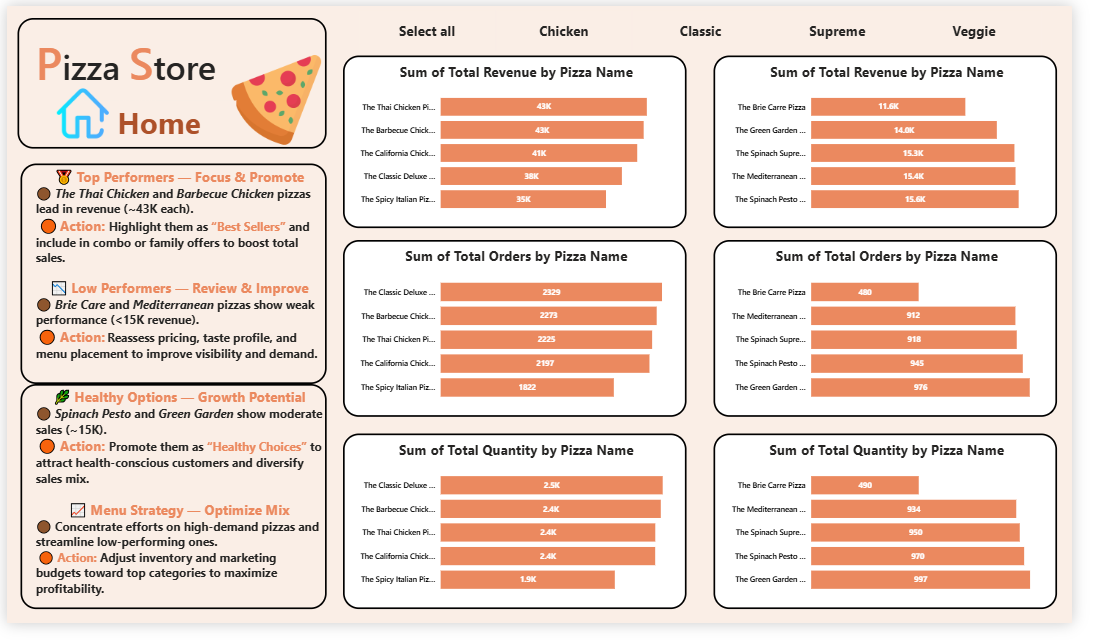

Layout of this report page (visuals, bound fields, positions):
{"tool":"powerbi","page":{"name":"Best/Worst Seller","canvas":[1690,980],"ordinal":1},"visuals":[{"type":"clusteredBarChart","fields":{"Category":["Pizzas_byRevenue.Pizza Name"],"Y":["Sum(Pizzas_byRevenue.Total Revenue)"]},"box":[533.3,78.6,545.2,273.8],"z":0},{"type":"clusteredBarChart","fields":{"Category":["Pizzas_byRevenue.Pizza Name"],"Y":["Sum(Pizzas_byRevenue.Total Revenue)"]},"box":[1121.4,78.6,545.2,273.8],"z":1000},{"type":"barChart","fields":{"Category":["Pizzas_TotalOrders.Pizza Name"],"Y":["Sum(Pizzas_TotalOrders.Total Orders)"]},"box":[533.3,371.4,545.2,281],"z":2000},{"type":"barChart","fields":{"Category":["Pizzas_TotalOrders.Pizza Name"],"Y":["Sum(Pizzas_TotalOrders.Total Orders)"]},"box":[1121.4,371.4,545.2,281],"z":3000},{"type":"clusteredBarChart","fields":{"Category":["Pizzas_byQuantity.Pizza Name"],"Y":["Sum(Pizzas_byQuantity.Total Quantity)"]},"box":[533.3,678.6,545.2,278.6],"z":4000},{"type":"clusteredBarChart","fields":{"Category":["Pizzas_byQuantity.Pizza Name"],"Y":["Sum(Pizzas_byQuantity.Total Quantity)"]},"box":[1121.4,678.6,545.2,278.6],"z":5000},{"type":"slicer","fields":{"Values":["Pizzas_byQuantity.Category"]},"box":[533.3,0,1133.3,78.6],"z":7000},{"type":"shape","box":[16.7,19,490.5,207.1],"z":7001},{"type":"image","box":[347.6,69,159.5,159.5],"z":7002},{"type":"textbox","box":[41.3,32.5,323.8,114.3],"z":7003},{"type":"shape","box":[21.4,250,485.7,350],"z":7004},{"type":"shape","box":[21.4,600,485.7,357.1],"z":7005},{"type":"textbox","box":[40.5,250,466.7,176.2],"z":7006},{"type":"textbox","box":[40.5,426.2,466.7,173.8],"z":7007},{"type":"textbox","box":[40.5,600,466.7,178.6],"z":7008},{"type":"textbox","box":[40.5,778.6,466.7,178.6],"z":7009},{"type":"pageNavigator","box":[119,150,245.2,66.7],"z":7010},{"type":"image","box":[69,123.8,102.4,92.9],"z":7011}]}

Visuals, with their boxes in screenshot pixels (x1, y1, x2, y2), scaled from the page's 1690x980 canvas onto the 1093x640 screenshot:
clusteredBarChart - Pizzas_byRevenue.Pizza Name x Sum(Pizzas_byRevenue.Total Revenue): 345:51:698:230
clusteredBarChart - Pizzas_byRevenue.Pizza Name x Sum(Pizzas_byRevenue.Total Revenue): 725:51:1078:230
barChart - Pizzas_TotalOrders.Pizza Name x Sum(Pizzas_TotalOrders.Total Orders): 345:243:698:426
barChart - Pizzas_TotalOrders.Pizza Name x Sum(Pizzas_TotalOrders.Total Orders): 725:243:1078:426
clusteredBarChart - Pizzas_byQuantity.Pizza Name x Sum(Pizzas_byQuantity.Total Quantity): 345:443:698:625
clusteredBarChart - Pizzas_byQuantity.Pizza Name x Sum(Pizzas_byQuantity.Total Quantity): 725:443:1078:625
slicer - Pizzas_byQuantity.Category: 345:0:1078:51
shape: 11:12:328:148
image: 225:45:328:149
textbox: 27:21:236:96
shape: 14:163:328:392
shape: 14:392:328:625
textbox: 26:163:328:278
textbox: 26:278:328:392
textbox: 26:392:328:508
textbox: 26:508:328:625
pageNavigator: 77:98:236:142
image: 45:81:111:142
